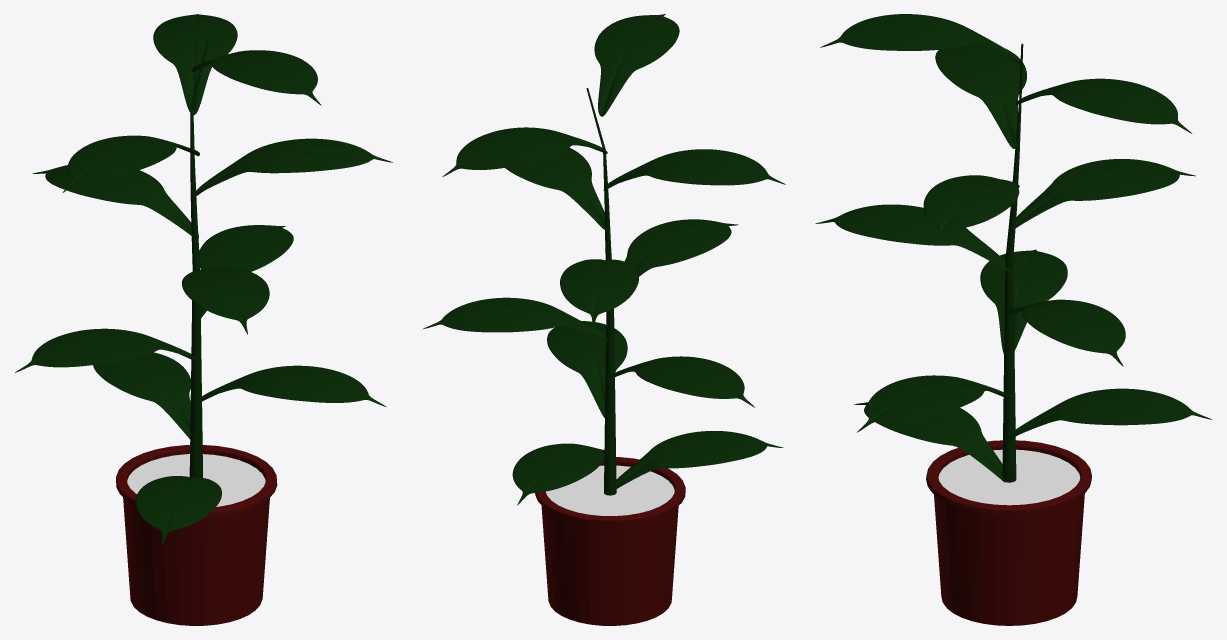
Rendered from Planta.fbx.
3 renders of one model, left to right at view 1: azimuth 30°, elevation 25°; view 2: azimuth 150°, elevation 25°; view 3: azimuth 270°, elevation 25°, orthographic. The views are drawn at different scales.
Parts seen in each view (by area): view 1: hoja 2, Macetero, Tierra, Tallo; view 2: hoja 2, Macetero, Tierra, Tallo; view 3: hoja 2, Macetero, Tierra, Tallo.
Boxes of the visible parts, box(x1,y1,x2,y2) form: hoja 2: box(15, 14, 392, 545); Macetero: box(116, 445, 277, 625); Tierra: box(127, 454, 265, 506); Tallo: box(189, 40, 209, 477); hoja 2: box(422, 14, 785, 505); Macetero: box(535, 457, 685, 625); Tierra: box(546, 465, 674, 515); Tallo: box(586, 88, 616, 495); hoja 2: box(815, 14, 1212, 482); Macetero: box(926, 440, 1091, 625); Tierra: box(938, 449, 1080, 505); Tallo: box(1002, 43, 1023, 482).
Bounding box in the file's own units: 5150 × 8436 × 5249.
